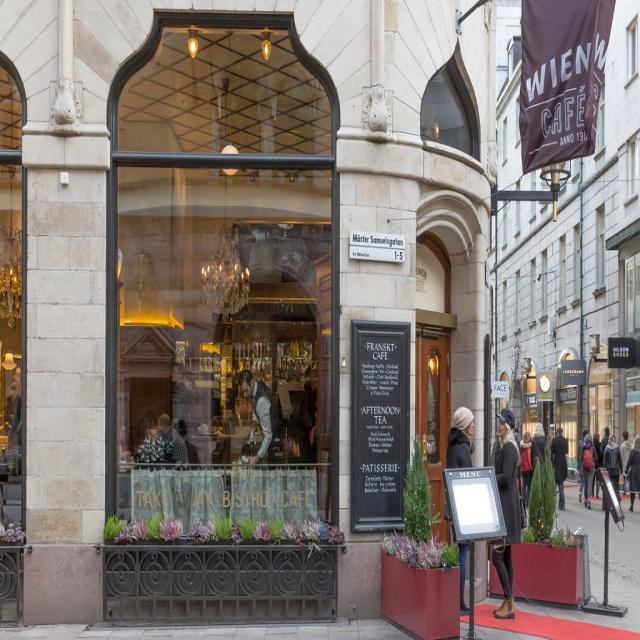body: (484, 406, 530, 621), (442, 406, 477, 618), (236, 366, 286, 472), (274, 359, 308, 466), (4, 372, 32, 480), (131, 412, 177, 468), (132, 413, 180, 463), (574, 431, 600, 510), (158, 414, 190, 471), (602, 432, 624, 513), (550, 426, 570, 512), (301, 365, 318, 463), (518, 430, 536, 508), (623, 434, 640, 512), (177, 418, 201, 471), (280, 422, 306, 470), (576, 427, 590, 504), (529, 421, 549, 473), (620, 429, 632, 497), (591, 432, 602, 499), (117, 420, 132, 461), (598, 427, 610, 468), (491, 429, 500, 457), (513, 426, 522, 452), (548, 428, 554, 446)
